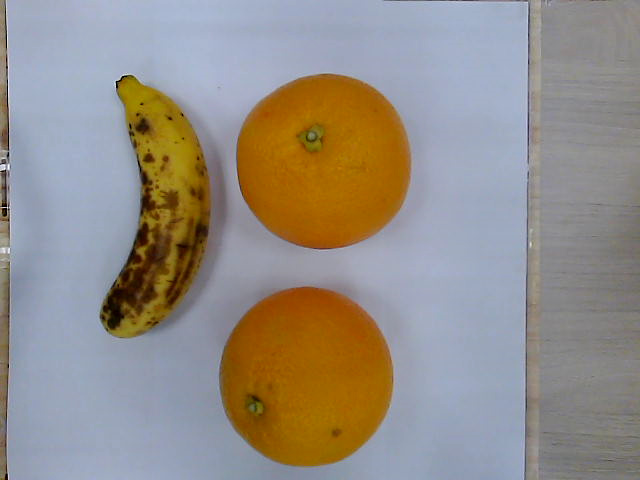fresh_orange: (220, 286, 394, 468), (236, 73, 412, 250)
rotten_banana: (100, 74, 214, 333)
